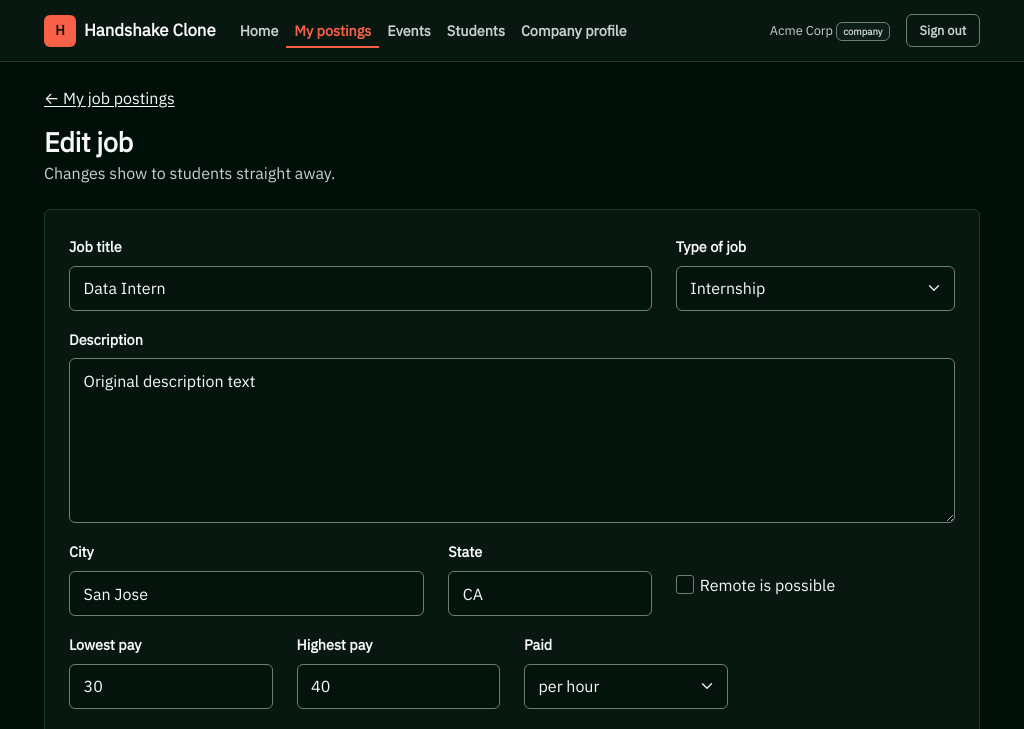
Test: Edit a job › loads the job, saves only through PATCH and shows a confirmation
Expected: the number field labelled "Lowest pay" holds "30", [69, 664, 272, 709]
Replace the text in the field labelled "Job title" with "Senior Data Intern". click: (360, 288)
box: [69, 266, 652, 311]
(page scrolled)
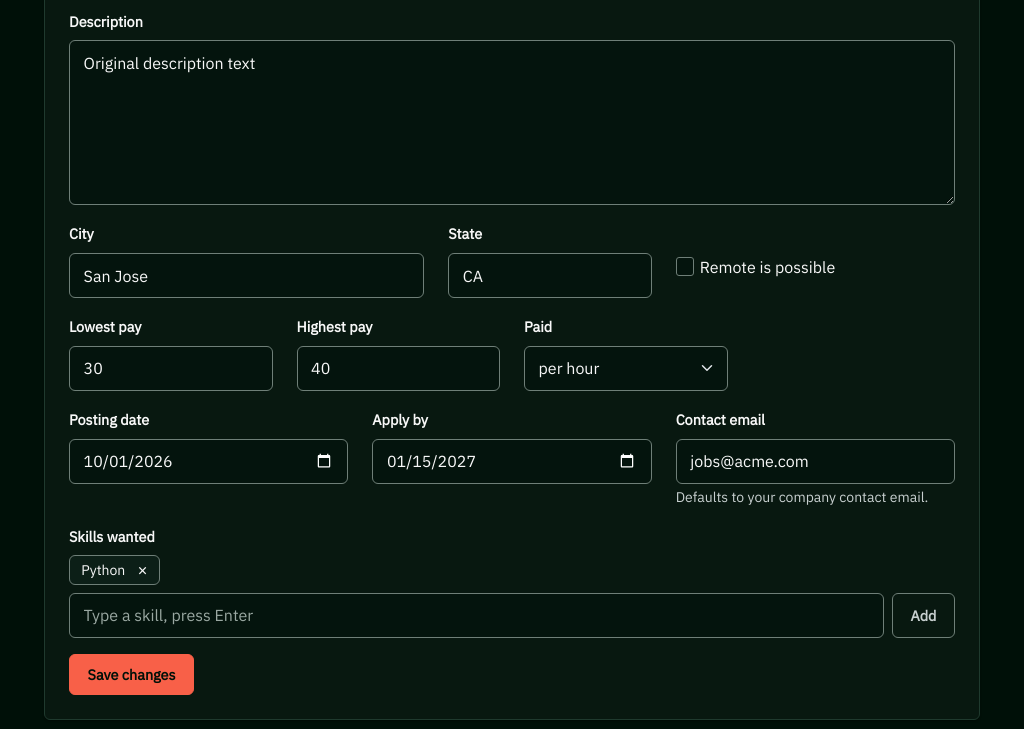
Click the button "Save changes". click: (132, 675)
box: [69, 654, 194, 695]
(page scrolled)
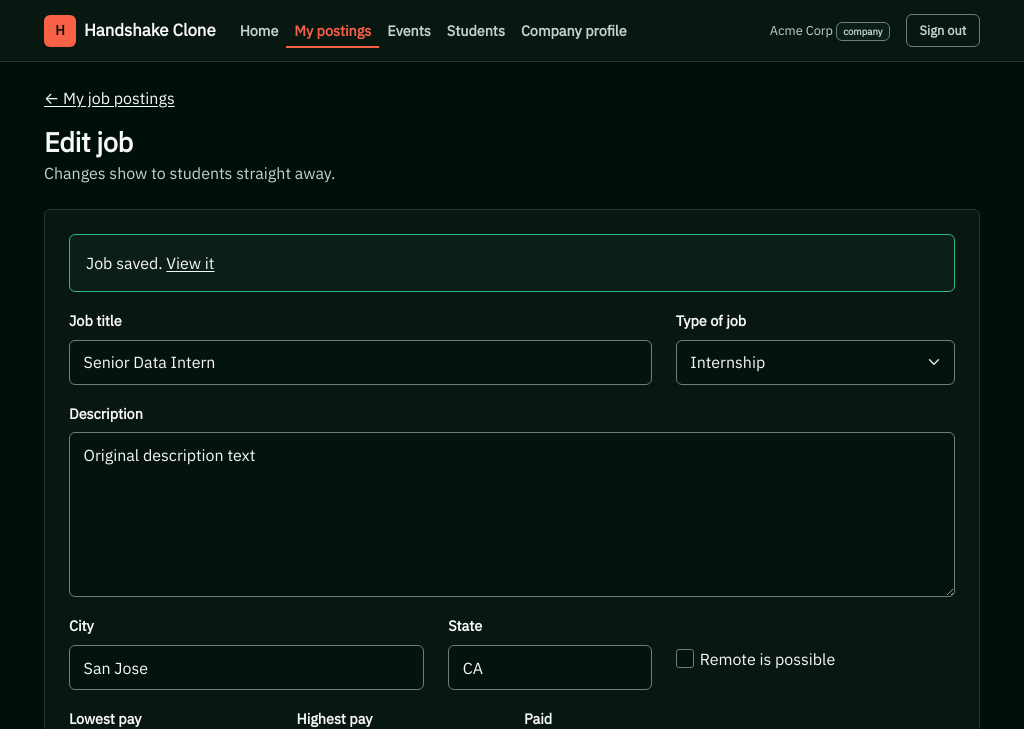
Now the text "Job saved. View it" is shown, box [69, 234, 955, 292]
